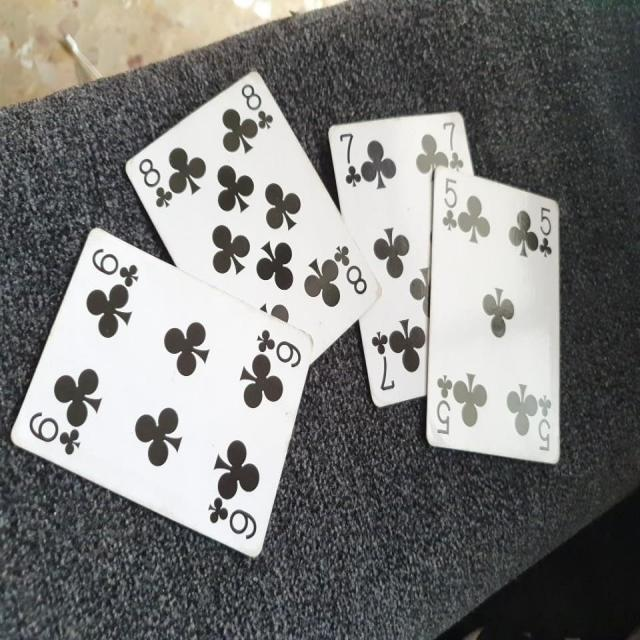5 Trefoils: (422, 160, 563, 463)
6 Trefoils: (10, 227, 315, 561)
7 Trefoils: (326, 106, 479, 410)
8 Trefoils: (124, 68, 384, 362)
